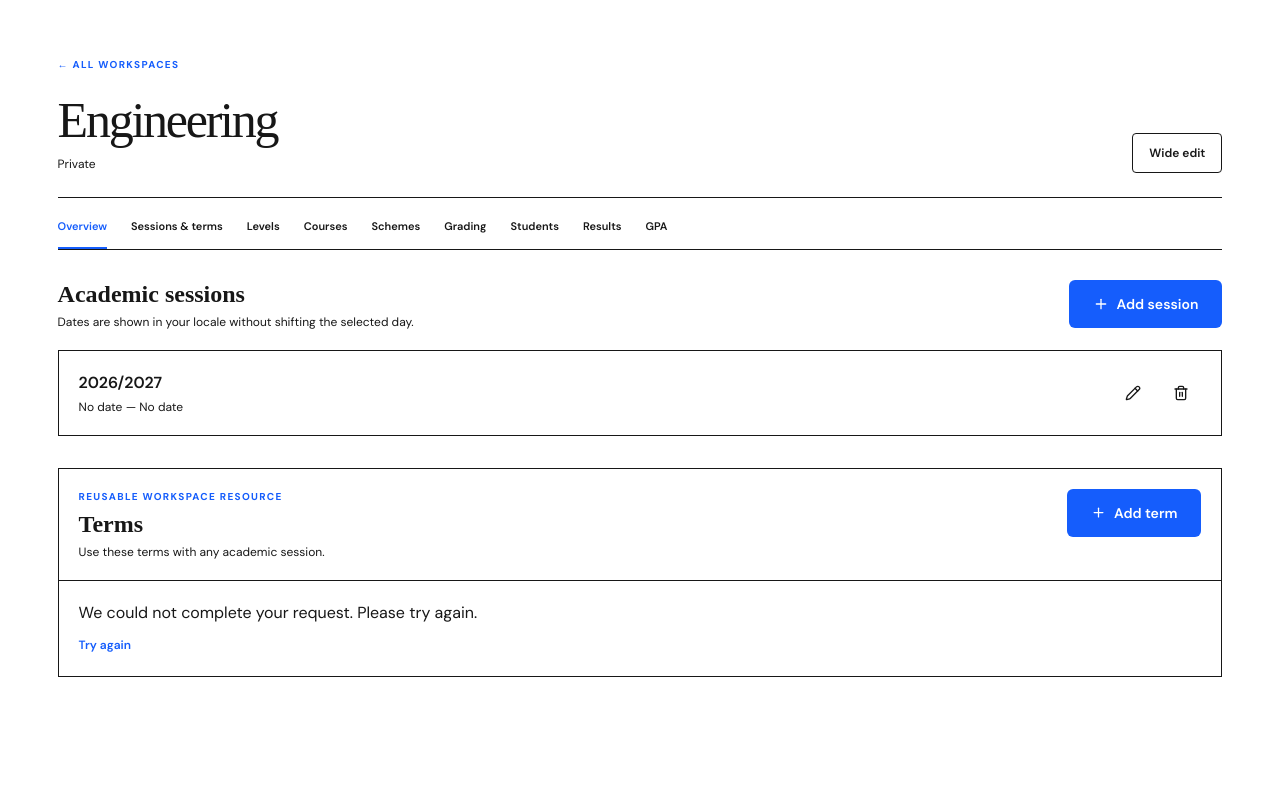
Test: workspace forms › retains a session and shows the server explanation after a 409 deletion conflict
The width and height of the screenshot is (1280, 800).
Click the button named "Delete 2026/2027" at point(1181, 393), box [1161,373,1201,413]
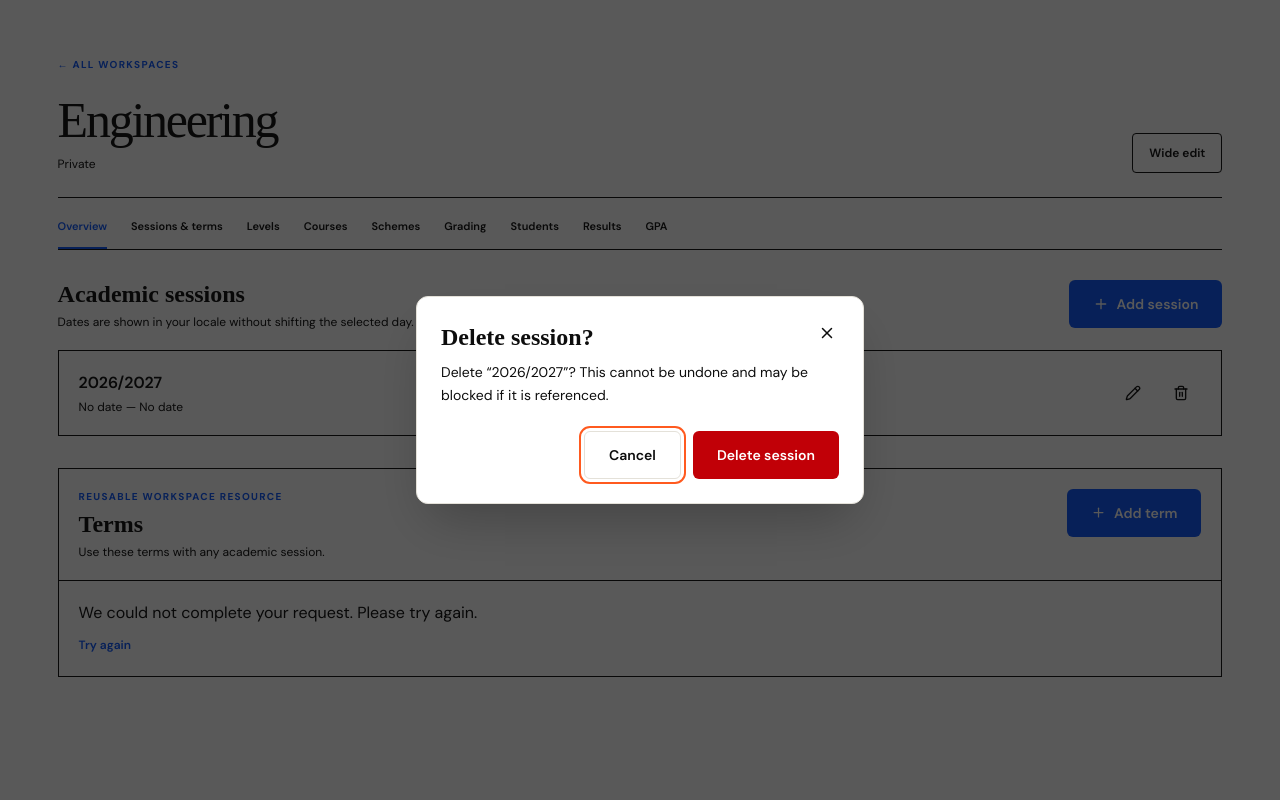
Click the button "Delete session" at point(766, 455), box [693,431,839,479]
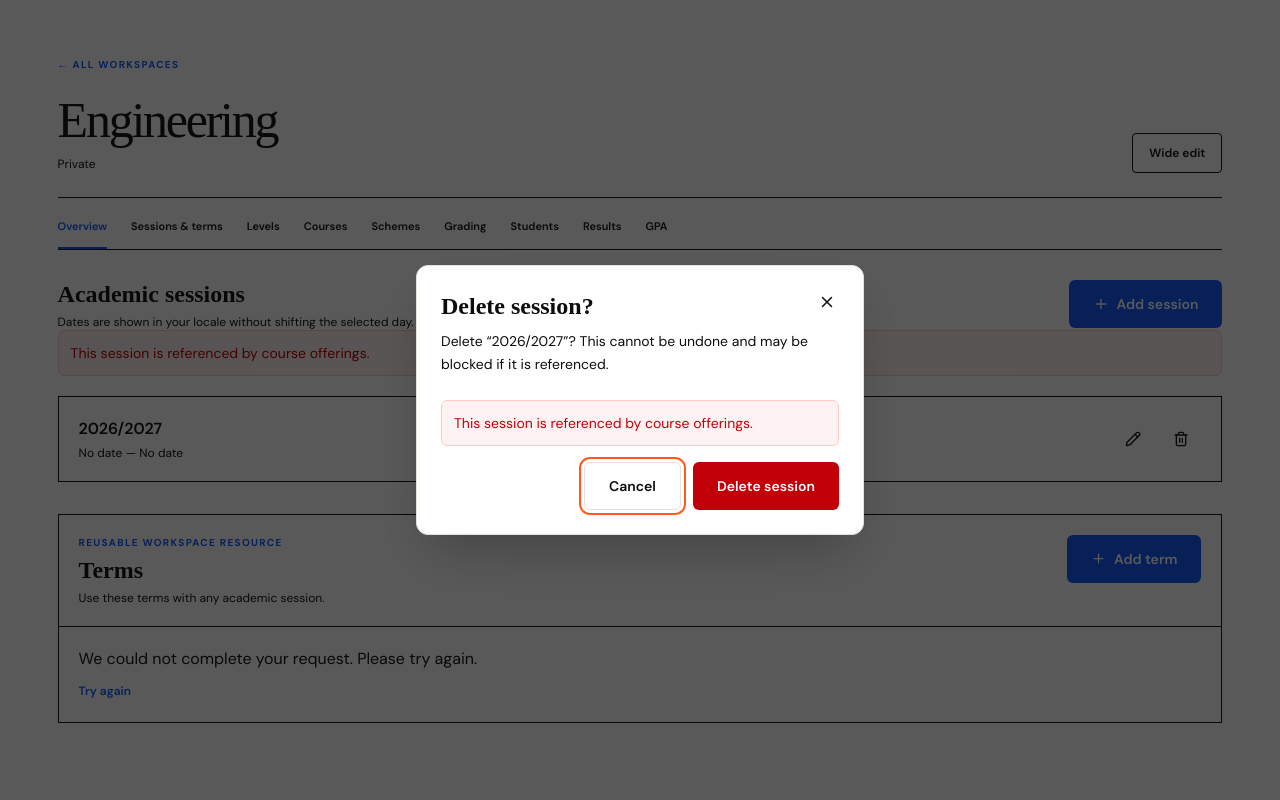
Expected: the heading "2026/2027" is shown, [79,418,162,439]
Expected: the text "This session is referenced by course offerings." below "Delete session?" is shown, [454,414,753,432]
